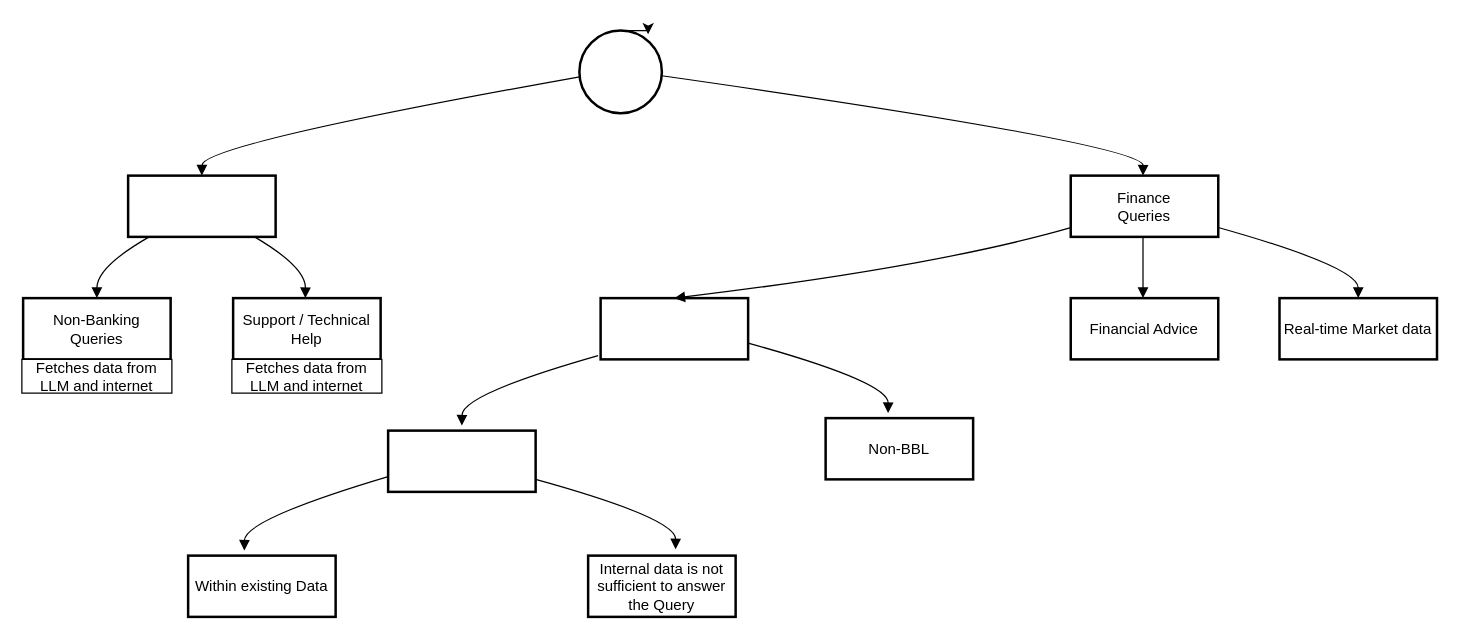
Some shapes in this 1460 by 640 pixel diagram are drawn without their labels. The shapes that lost their labels are listed below. From the top down, each one's centre as x and y in pixels, then its label:
(x=620, y=71): Wealth S'mart
(x=201, y=206): Non-Finance Queries
(x=674, y=328): Insurance and other similar products
(x=461, y=460): BBL Specific
